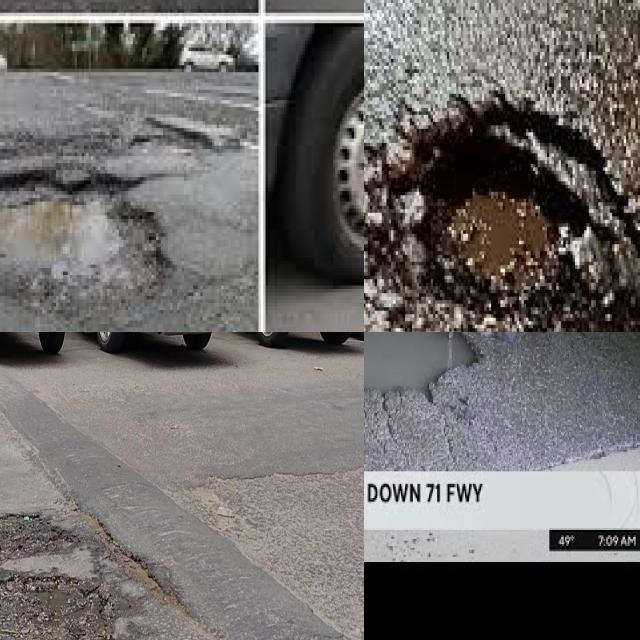Pothole: (364, 92, 640, 332), (0, 170, 252, 332), (0, 571, 113, 640), (364, 332, 448, 388), (0, 513, 62, 562)
